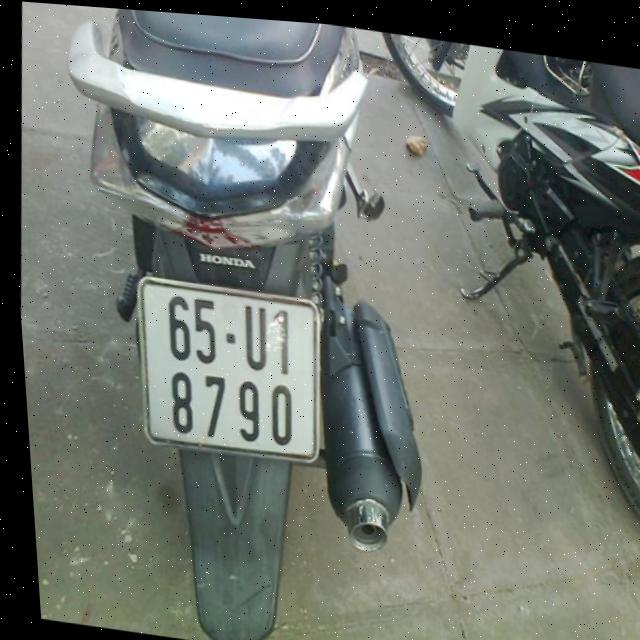motorcycle: (26, 2, 461, 640), (384, 34, 640, 534)
plate: (126, 267, 329, 464)
